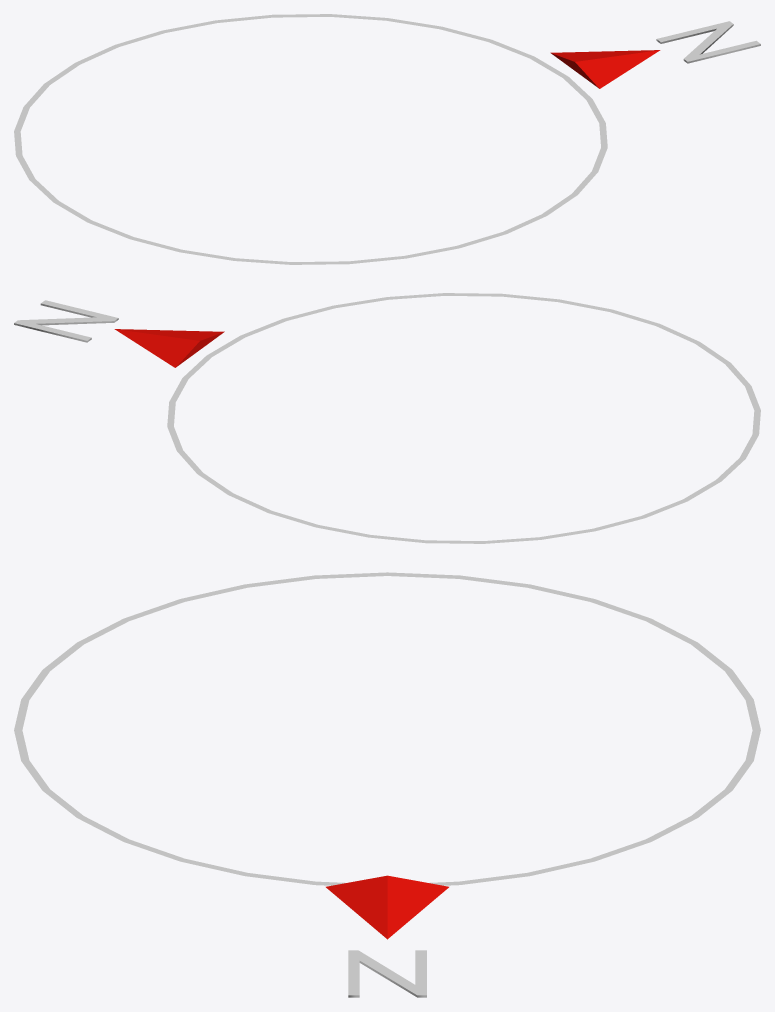
Rendered from compass.glb.
3 renders of one model, top to bottom at view 1: azimuth 30°, elevation 25°; view 2: azimuth 150°, elevation 25°; view 3: azimuth 270°, elevation 25°, orthographic. The views are drawn at different scales.
Parts seen in each view (by area): view 1: Text; view 2: Text; view 3: Text.
Part boxes in pixels (x1,y1,x2,y2): Text: (14, 14, 760, 264); Text: (14, 293, 760, 543); Text: (14, 572, 760, 997).
Size of the model in its own units: 8.06 by 0.1558 by 6.
